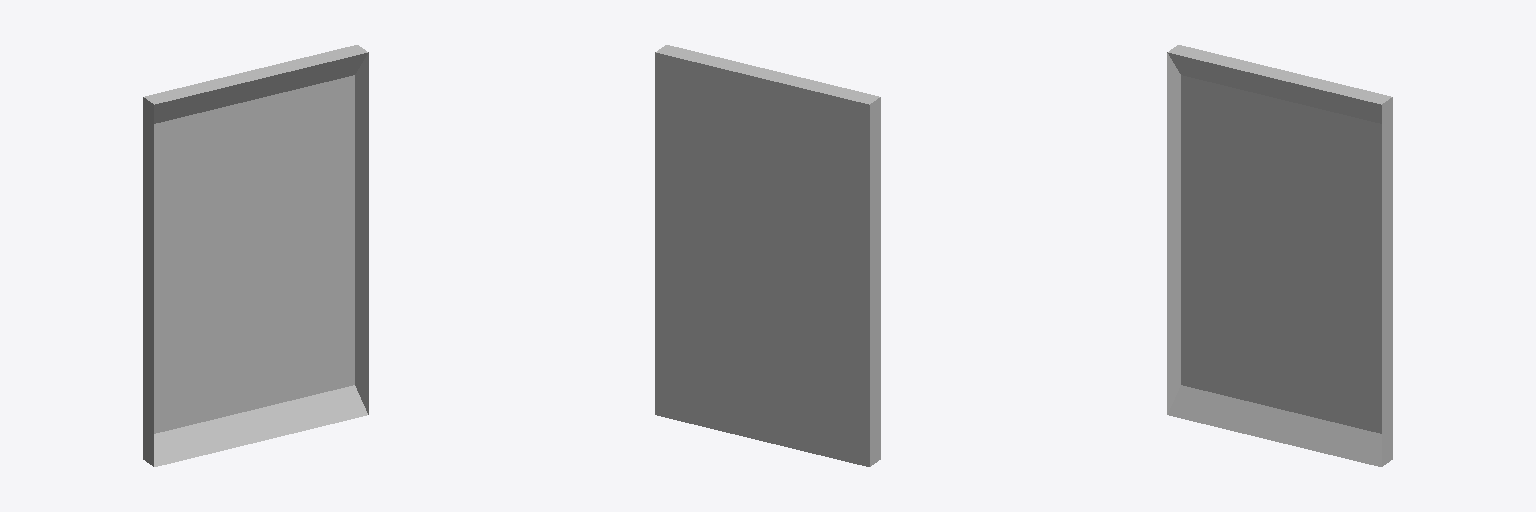
The model's file is oldpainting4.obj.
3 renders of one model, left to right at view 1: azimuth 30°, elevation 25°; view 2: azimuth 150°, elevation 25°; view 3: azimuth 330°, elevation 25°, orthographic.
Parts seen in each view (by area): view 1: br_painting4; view 2: br_painting4; view 3: br_painting4.
Boxes of the visible parts, <box> form: br_painting4: <box>143,45,368,466</box>; br_painting4: <box>655,45,880,466</box>; br_painting4: <box>1167,45,1392,466</box>.
Bounding box in the file's own units: 34 × 55 × 2.98.